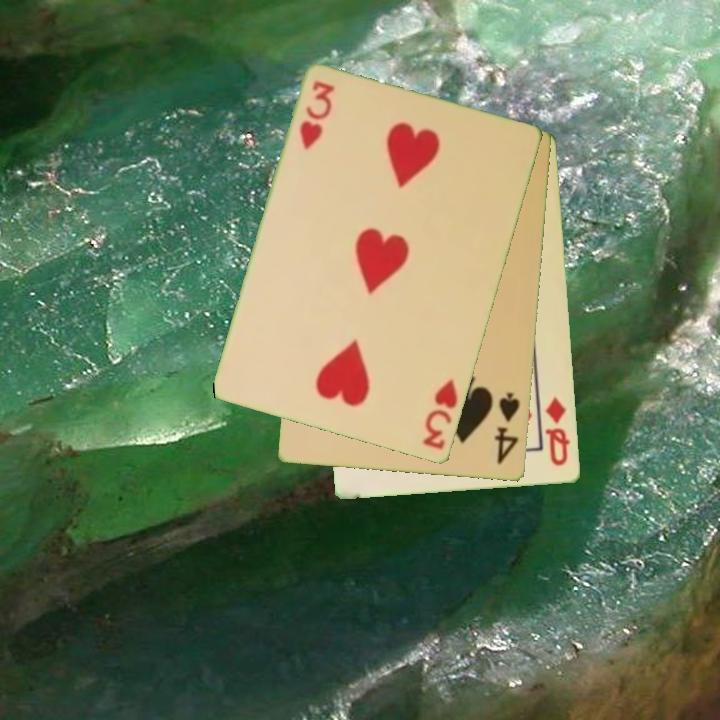3h: (420, 375, 461, 453), (296, 78, 338, 154)
4s: (491, 389, 523, 468)
Qd: (542, 394, 574, 469)
